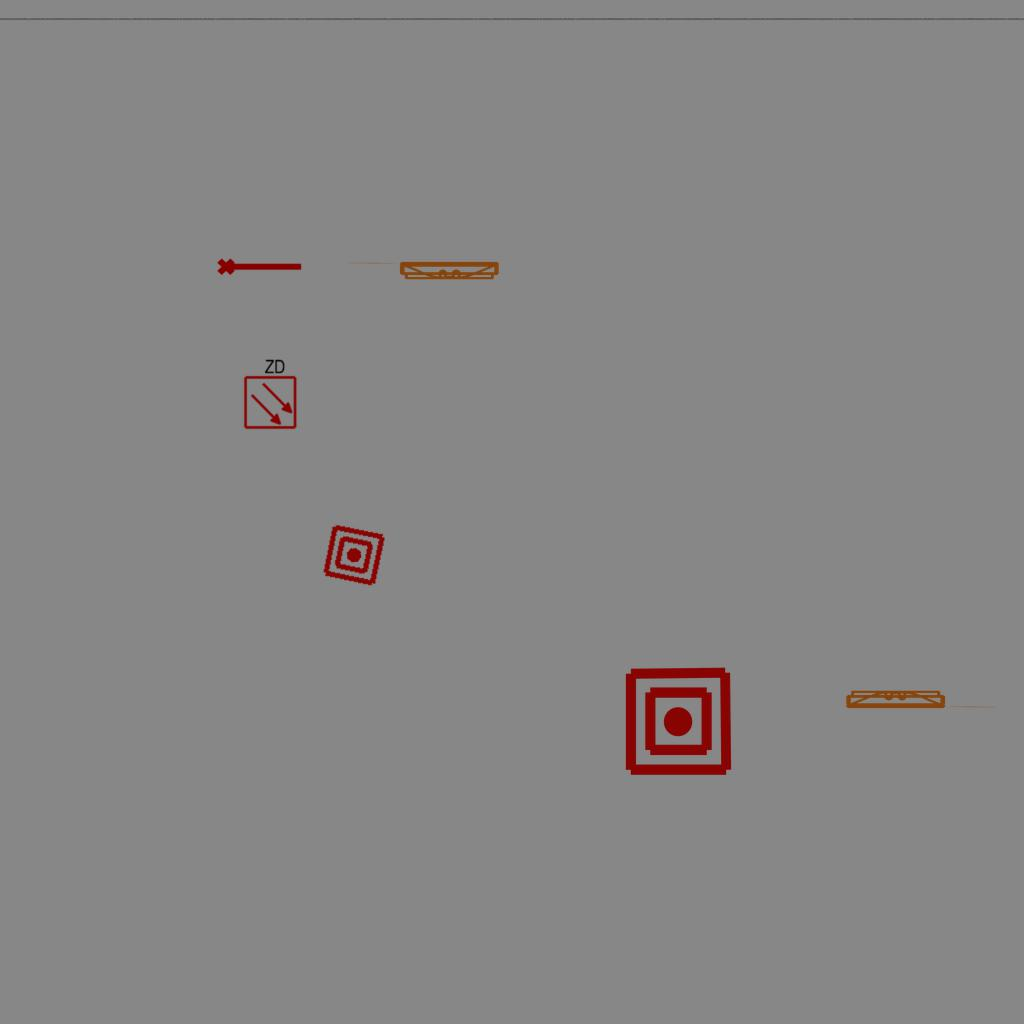ASR_Ansaugoeffnung: (216, 254, 304, 277)
NAM-Nichtautomatischer_Melder: (622, 665, 735, 778), (320, 521, 388, 589)
Sicherheitsleuchte_Wandeinbau: (345, 259, 504, 284), (841, 686, 1000, 711)
ZD_Melder_in_Zwischendecke_mit_Revisionsoeffnung_mind_40_x_40_cm: (241, 356, 298, 430)
